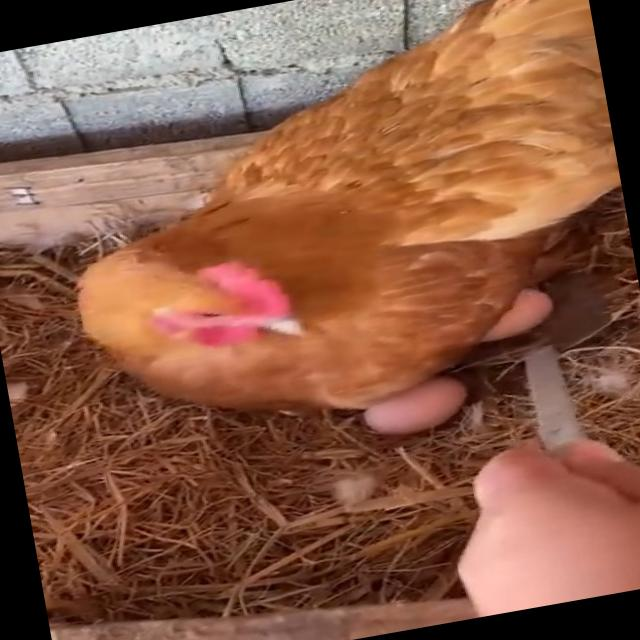crouch chicken: (12, 0, 640, 467)
